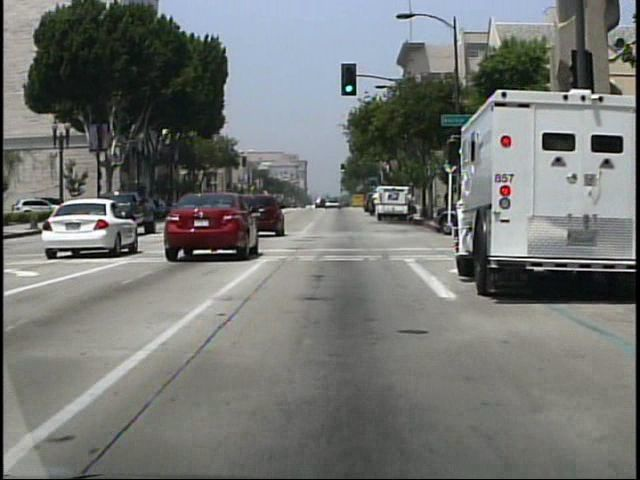person: (408, 189, 418, 223)
